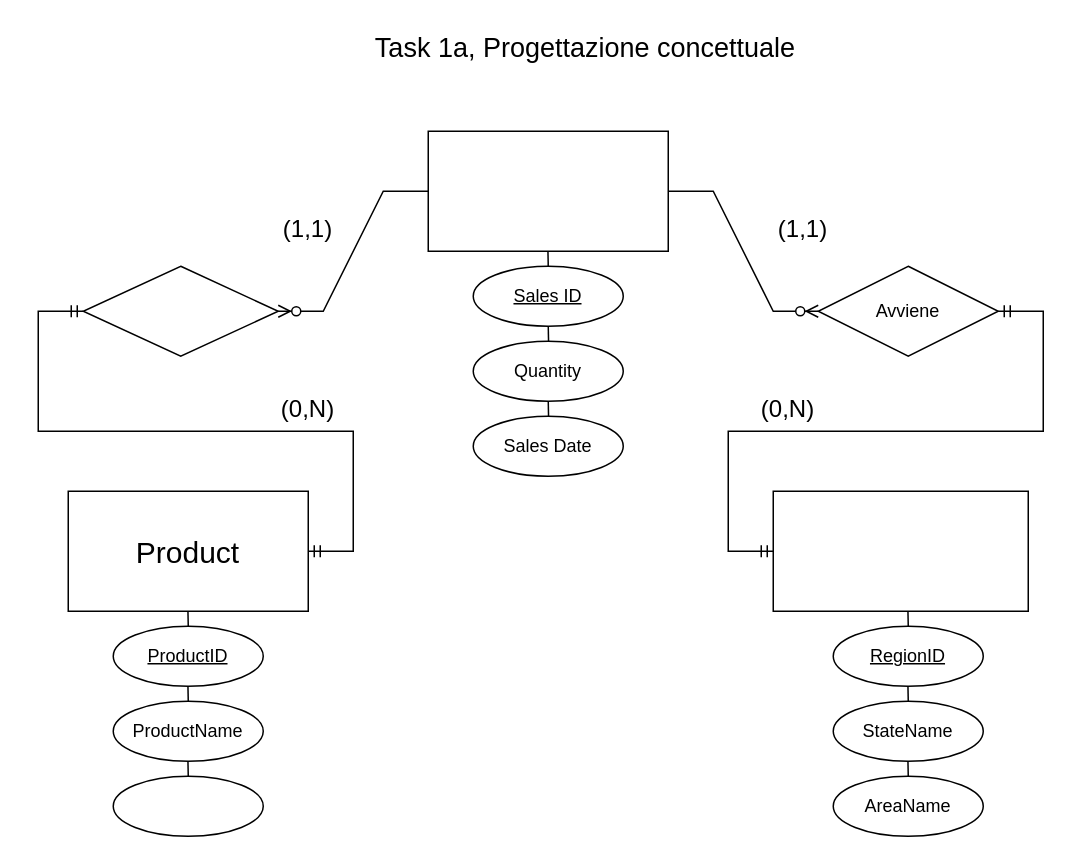
Image size: 1083x863. Some labels were removed from this diagram. Each missing label, with the centre of its shape:
Category: the point at 187,805
Ha: the point at 180,310
Region: the point at 900,550
Sales: the point at 547,190
